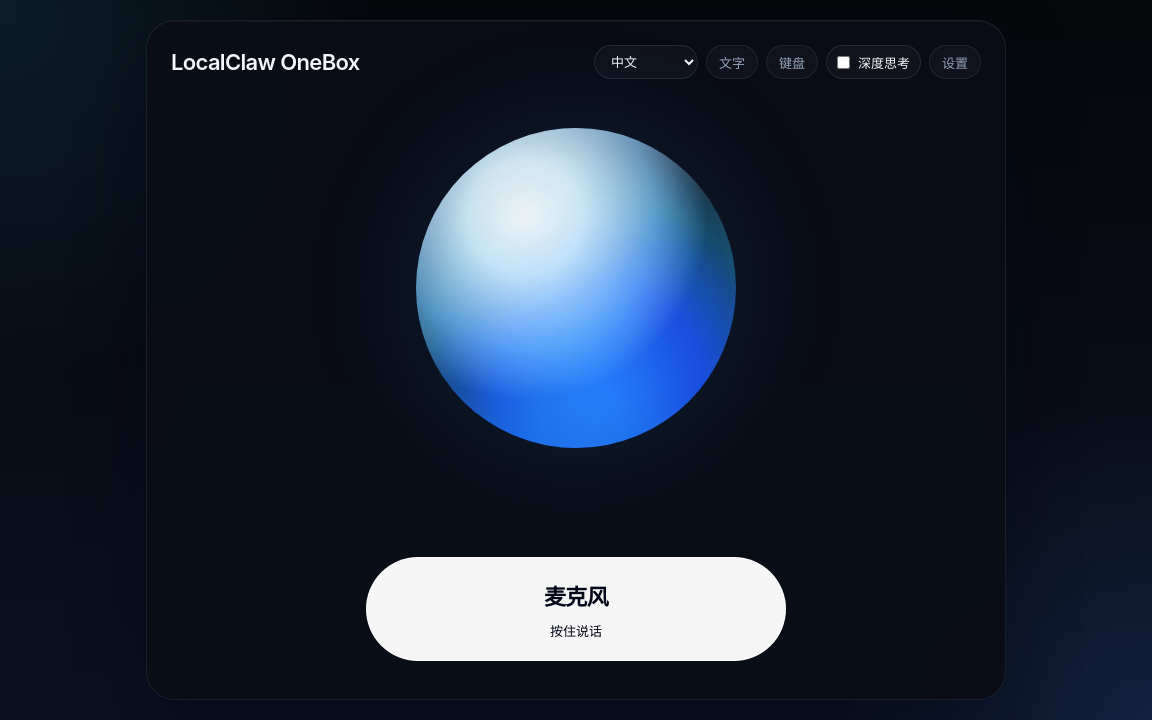
Test: can switch the UI language to Japanese
Click the button "设置".
click(955, 62)  # box [929,45,981,79]
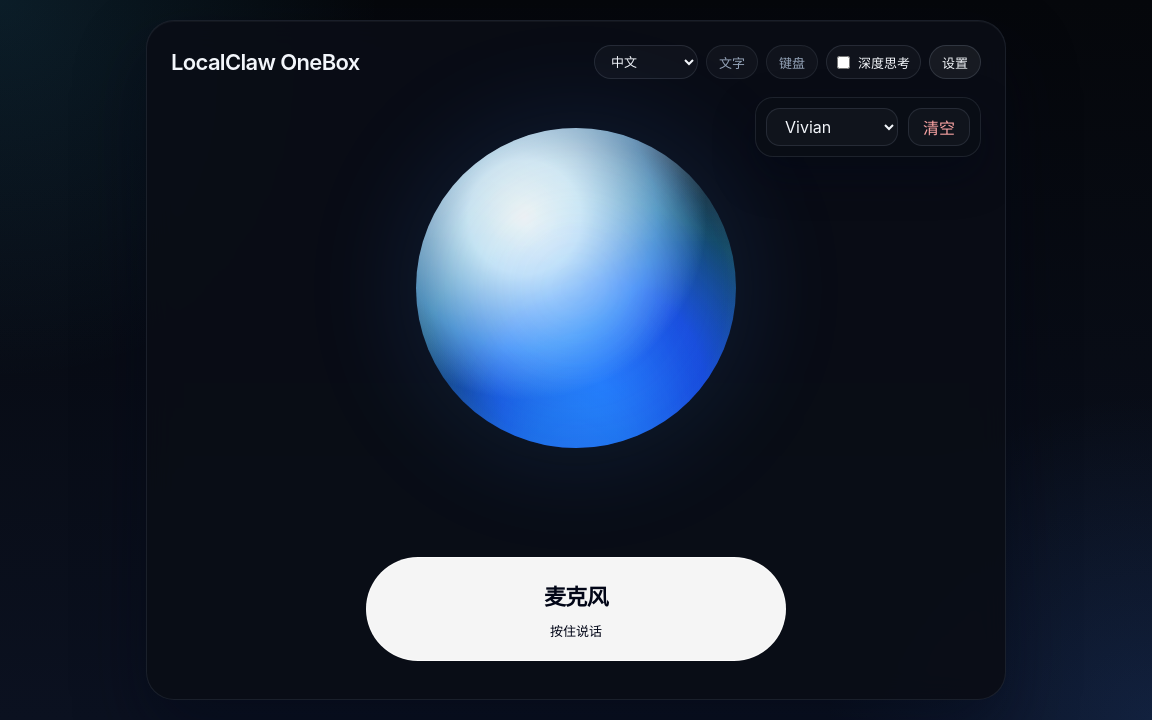
Select "日本語" in the dropdown named "语言" at (646, 62), box [594,45,698,79]
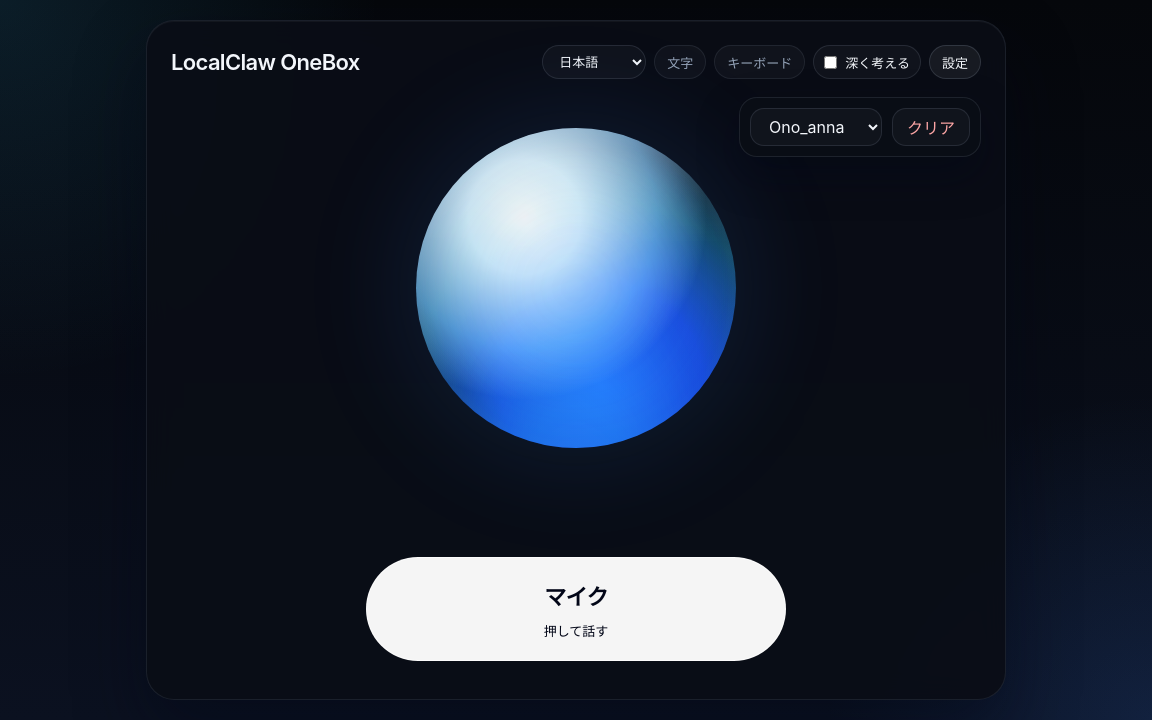
Expected: the text "深く考える" is shown, [845,52,910,72]
Click the button with aria-label "キーボード入力に切り替え".
click(760, 62)  # box [714,45,805,79]
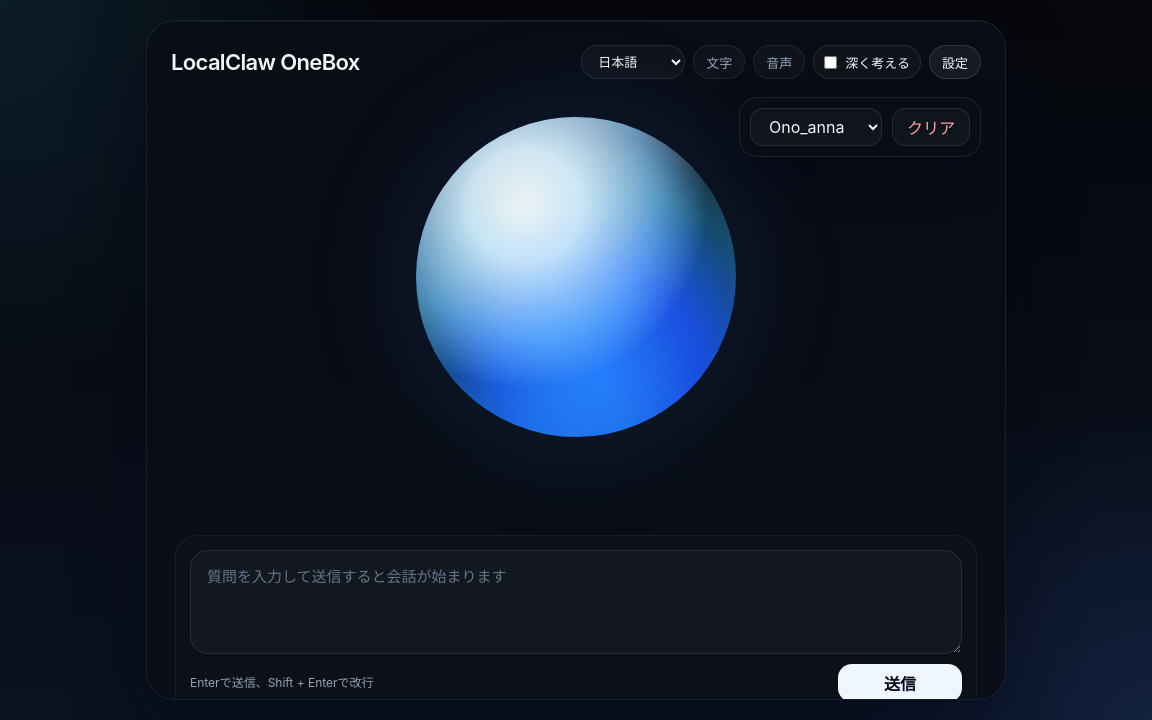
Expected: the text box with placeholder "質問を入力して送信すると会話が始まります" is shown, [190,550,962,654]
